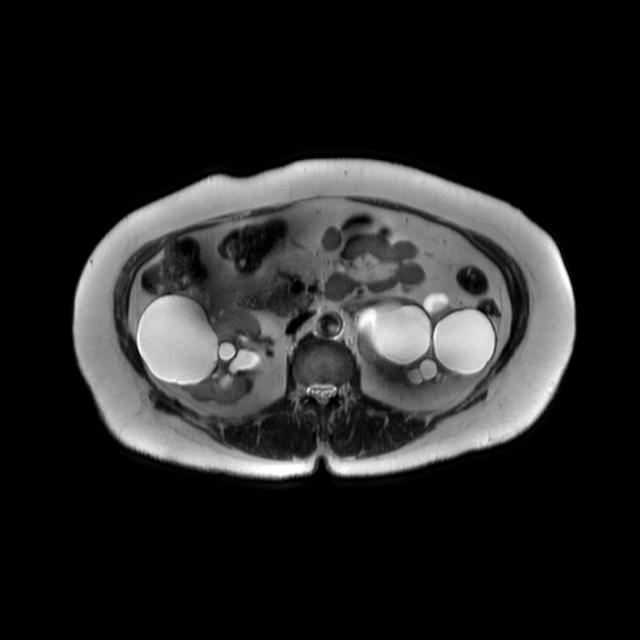sag: (138, 288, 265, 405)
sol: (355, 292, 495, 387)
